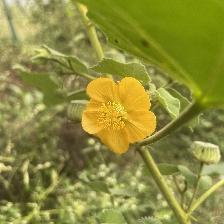indian mallow: (81, 77, 160, 156)
